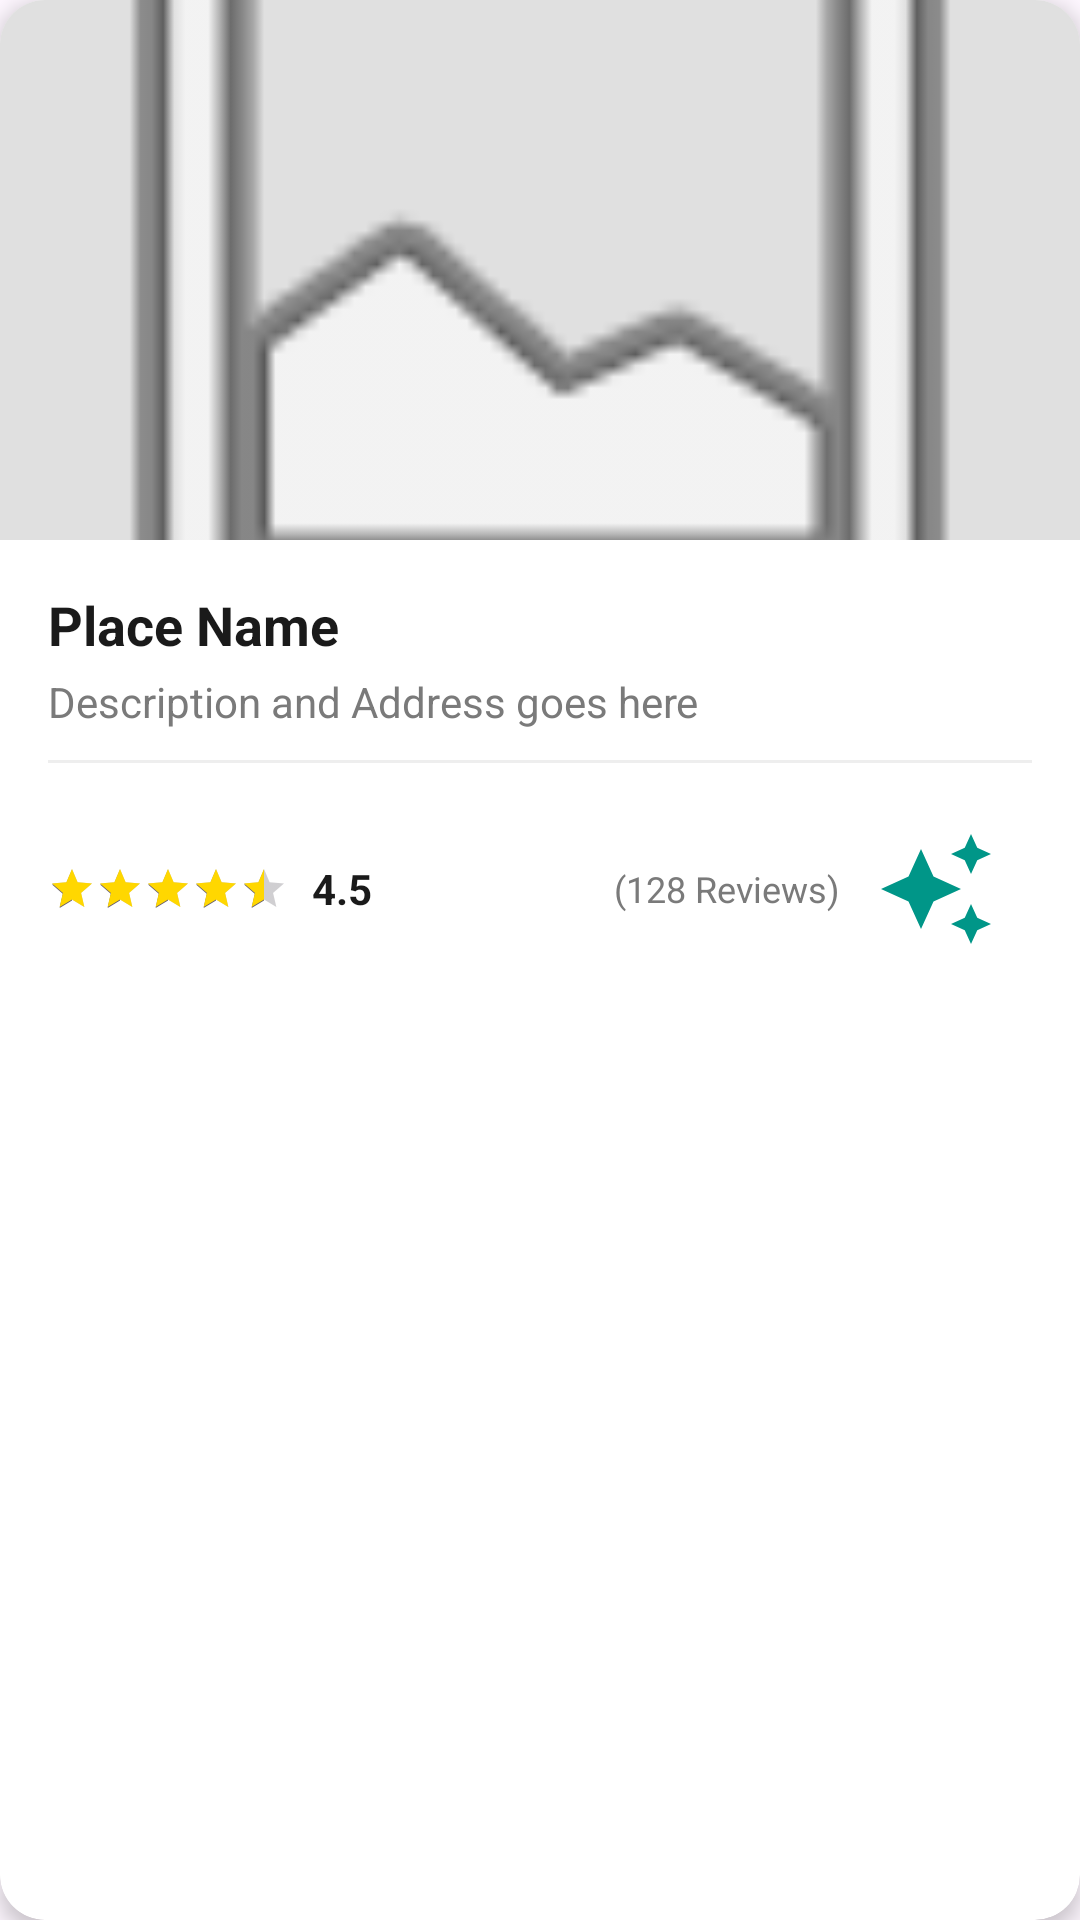

Named icons in this screenshot (1080×1920) and their bounding boxes, {"x1": x1, "y1": y1, "x2": x2, "y2": y2}:
Gemini AI: {"x1": 881, "y1": 834, "x2": 991, "y2": 944}
